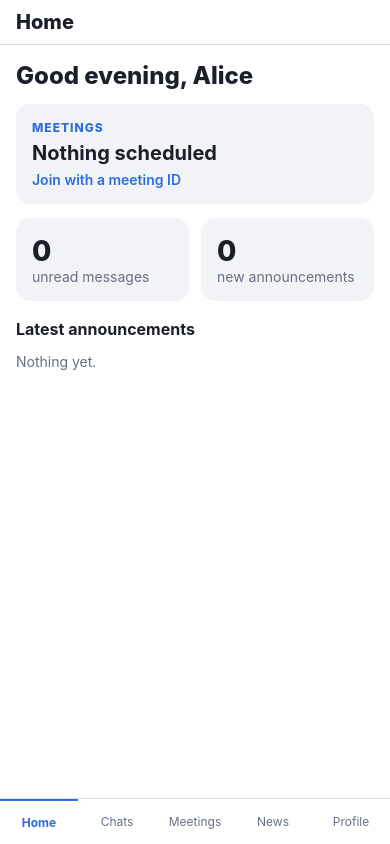
Test: New chat: start a direct chat by user id
Expected: the text "Good evening, Alice" is shown, [16,61,253,90]
Click the tab with aria-label "Chats tab".
click(117, 822)  # box [101,814,133,829]
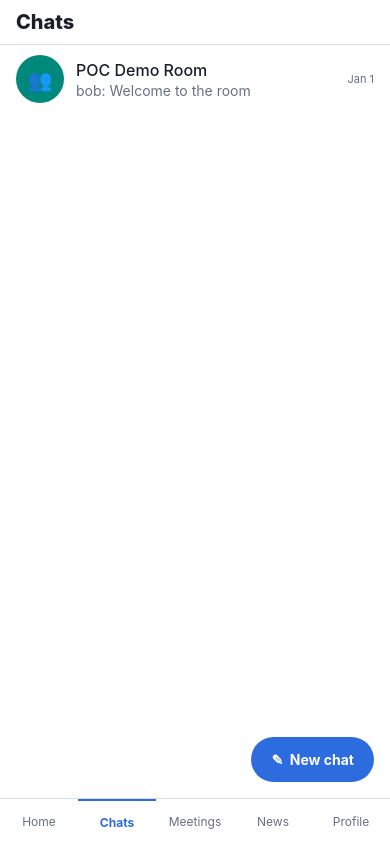
Expected: the text "POC Demo Room" is shown, [76,60,207,80]
Click the text "✎ New chat".
click(313, 760)  # box [271,751,354,768]
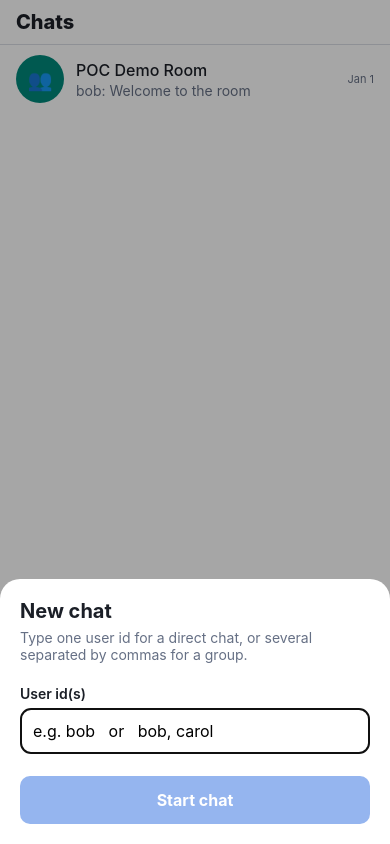
Type "bob" into the field with placeholder "e.g. bob or bob, carol".
click(195, 731); type("bob")  # box [20,708,370,754]
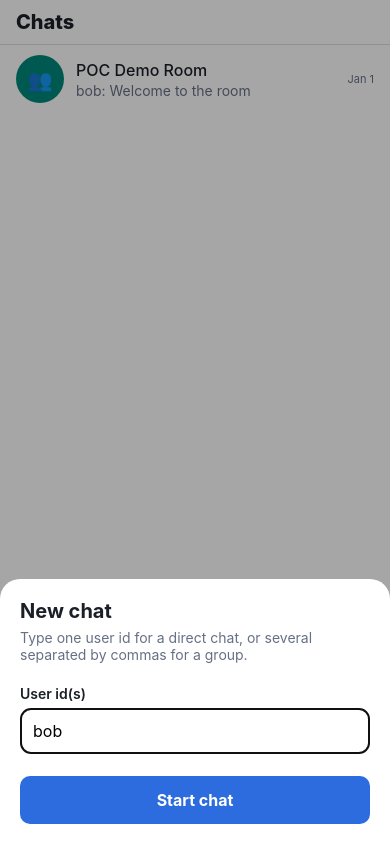
Click the text "Start chat".
click(195, 800)  # box [157,790,233,810]
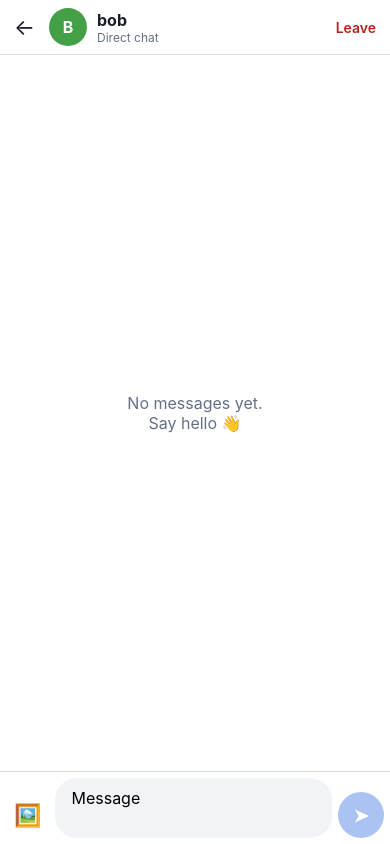
Expected: the text "No messages yet. Say hello 👋" is shown, [127,393,263,433]
